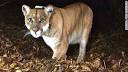lion: (20, 2, 93, 68)
